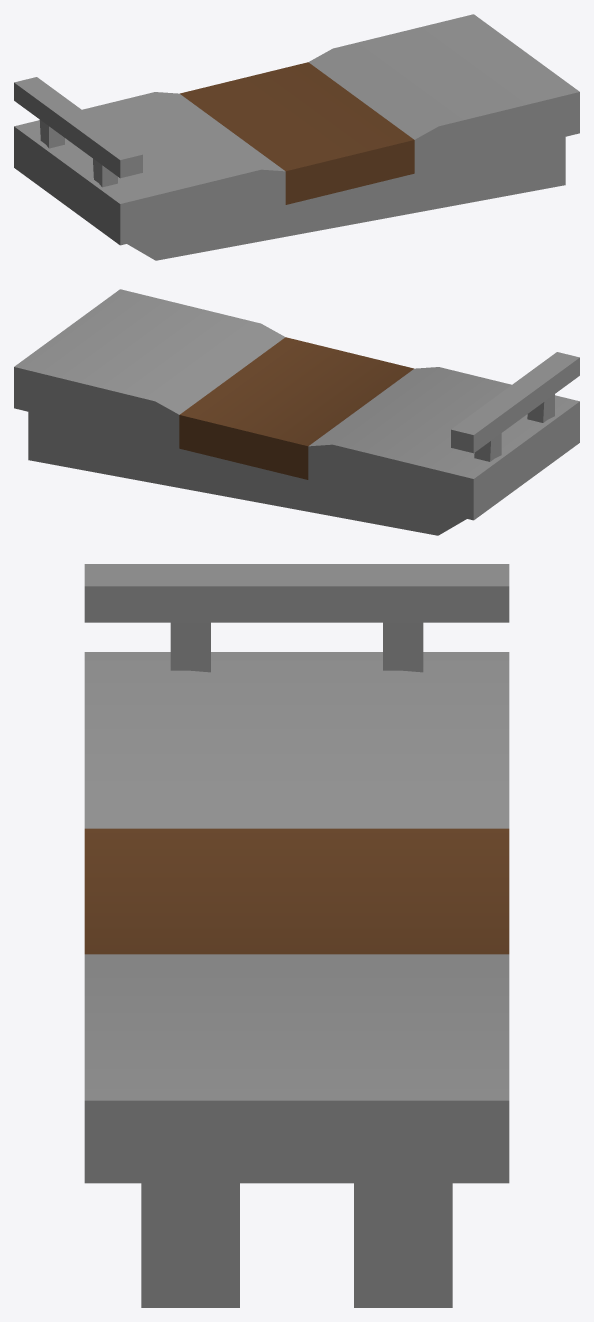
File: BlocLine2.FBX
3 views of the same model, one above another, from view 1: azimuth 30°, elevation 25°; view 2: azimuth 150°, elevation 25°; view 3: azimuth 270°, elevation 25° (orthographic). The views are drawn at different scales.
Parts seen in each view (by area): view 1: BlocLine2; view 2: BlocLine2; view 3: BlocLine2.
Part boxes in pixels (<box>): BlocLine2: <box>14,14,579,260</box>; BlocLine2: <box>14,289,579,535</box>; BlocLine2: <box>84,564,509,1307</box>.
Bounding box in the file's own units: 5 × 1.53 × 2.
